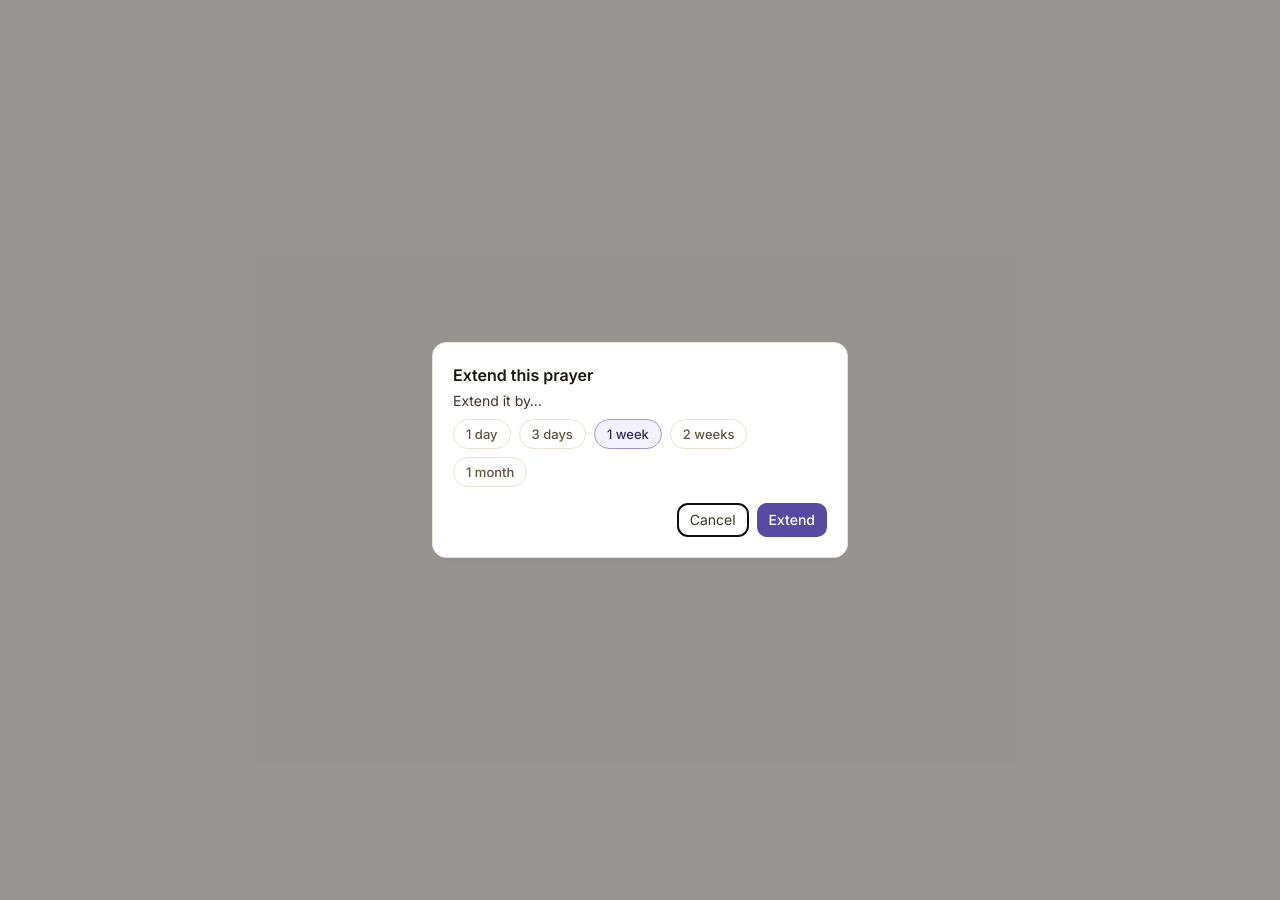
Test: ExtendDialog › disables both buttons and blocks Esc/backdrop while the confirm is pending
The image size is (1280, 900).
Click the button "Extend": (792,520) [757, 503, 827, 537]
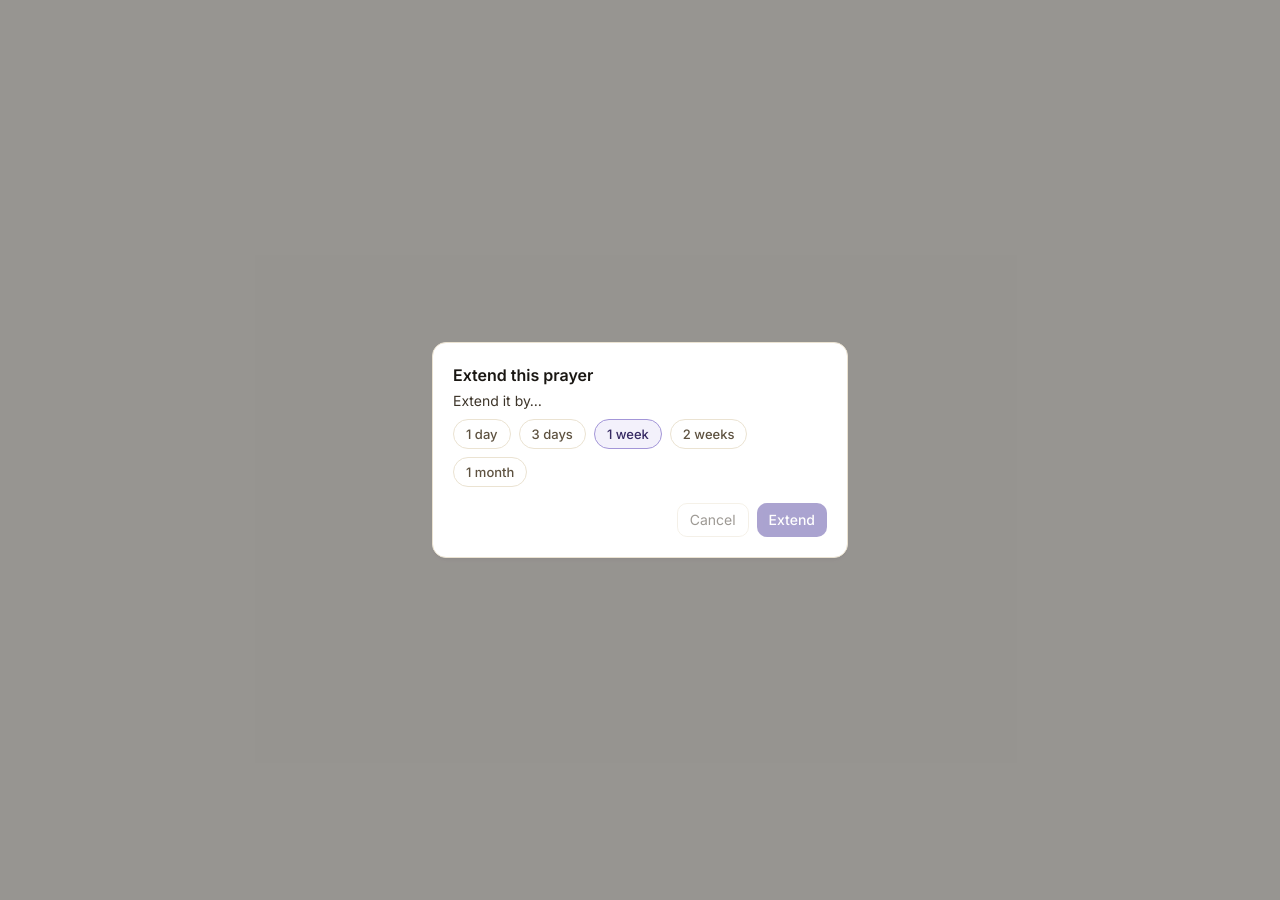
expect the button "Extend" is disabled: met, box [757, 503, 827, 537]
expect the button "Cancel" is disabled: met, box [677, 503, 749, 537]
Note: Esc and backdrop must not cancel while busy
Press Escape
Click the button with test id "extend-dialog-backdrop": (77,450) [0, 0, 1279, 899]
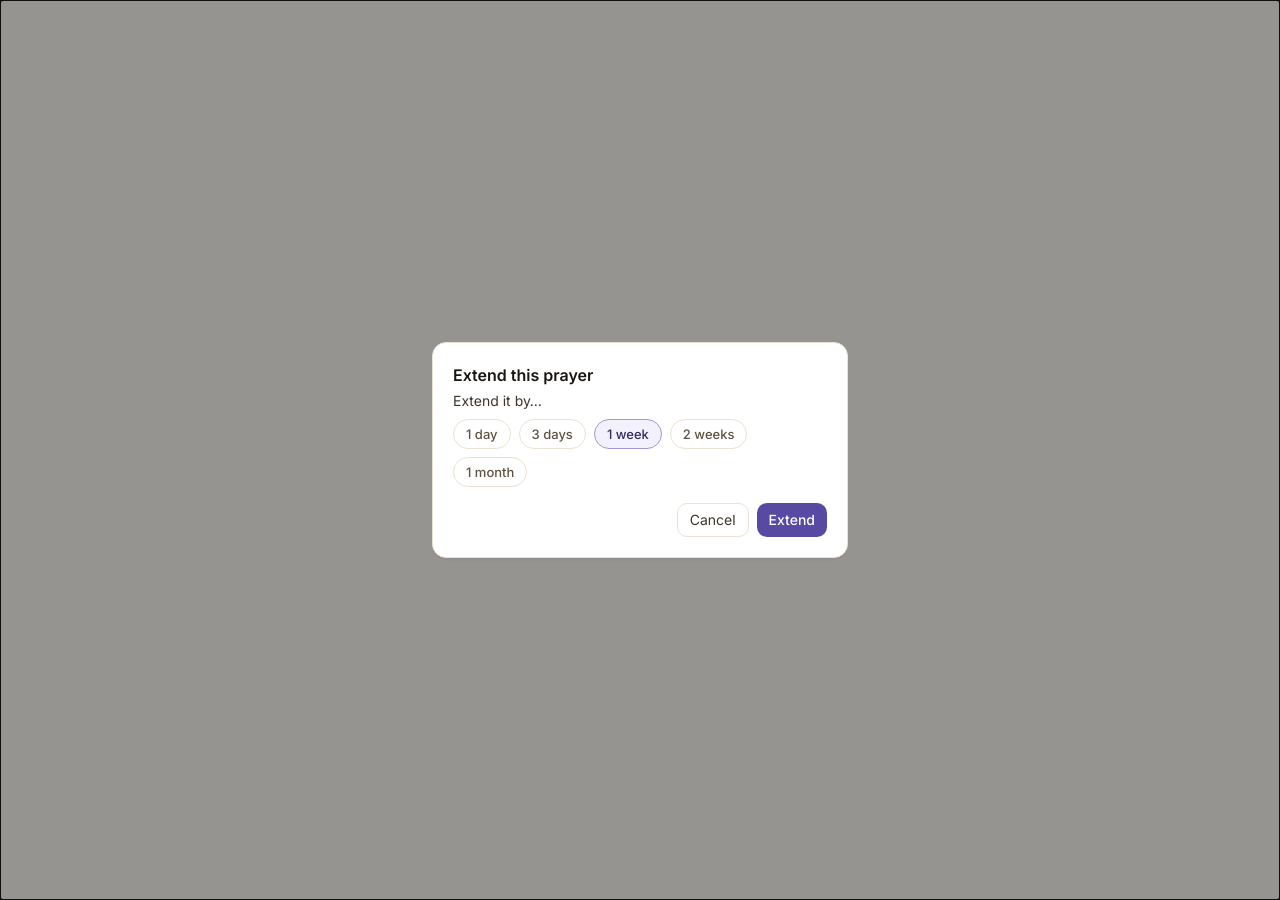
expect the button "Extend" is enabled: met, box [757, 503, 827, 537]
expect the button "Cancel" is enabled: met, box [677, 503, 749, 537]
